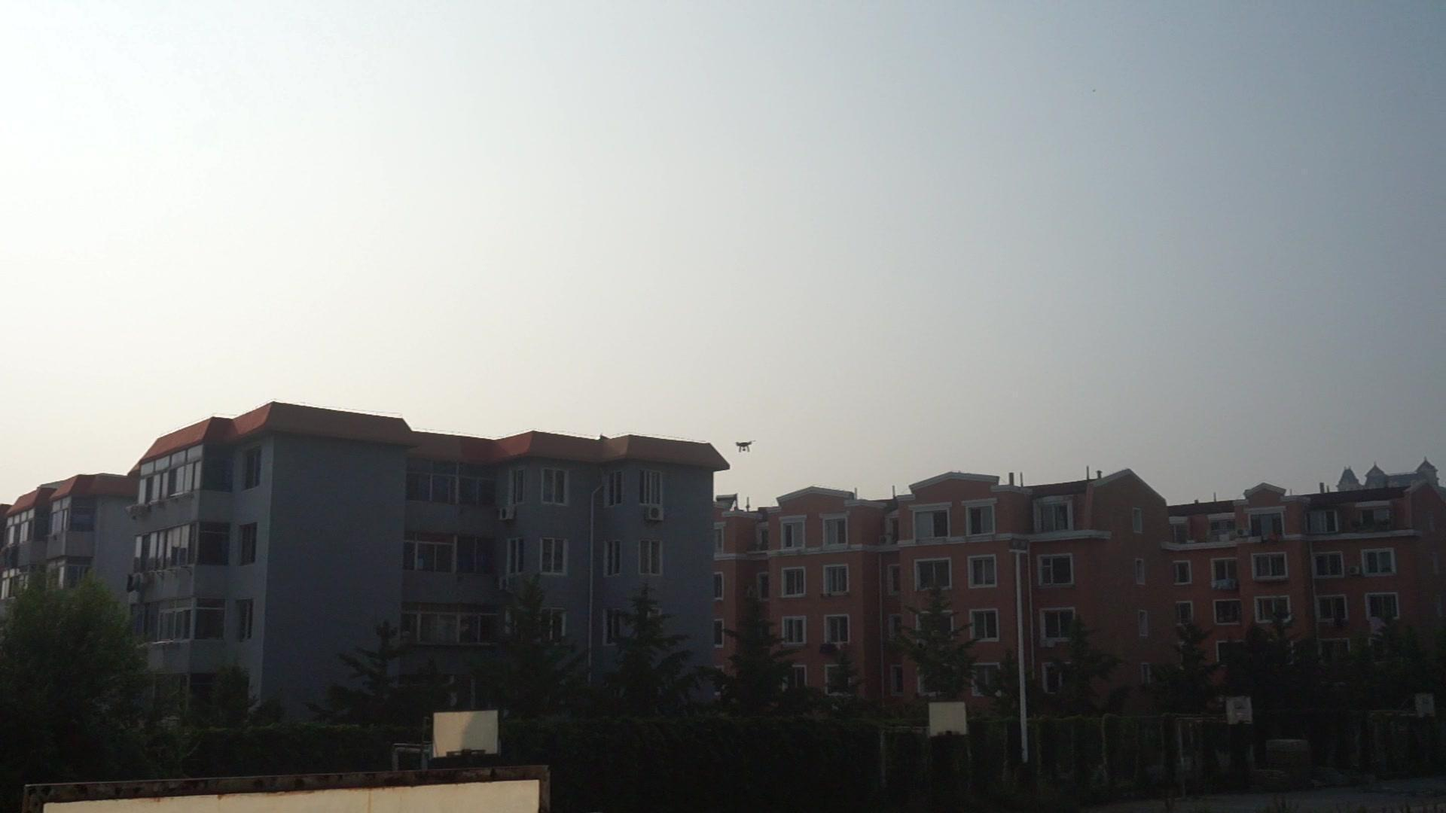UAV: (735, 441, 757, 453)
